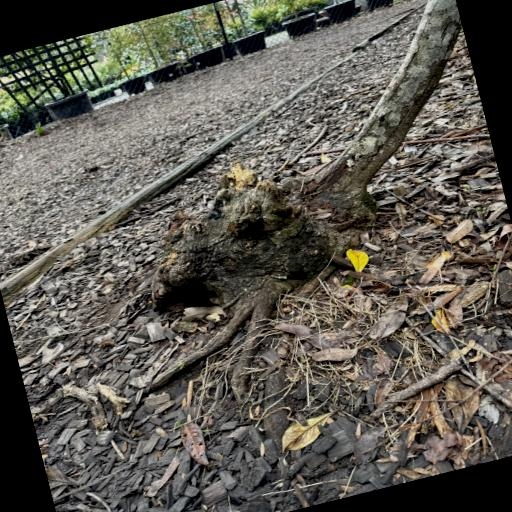tree root: (121, 0, 462, 457)
